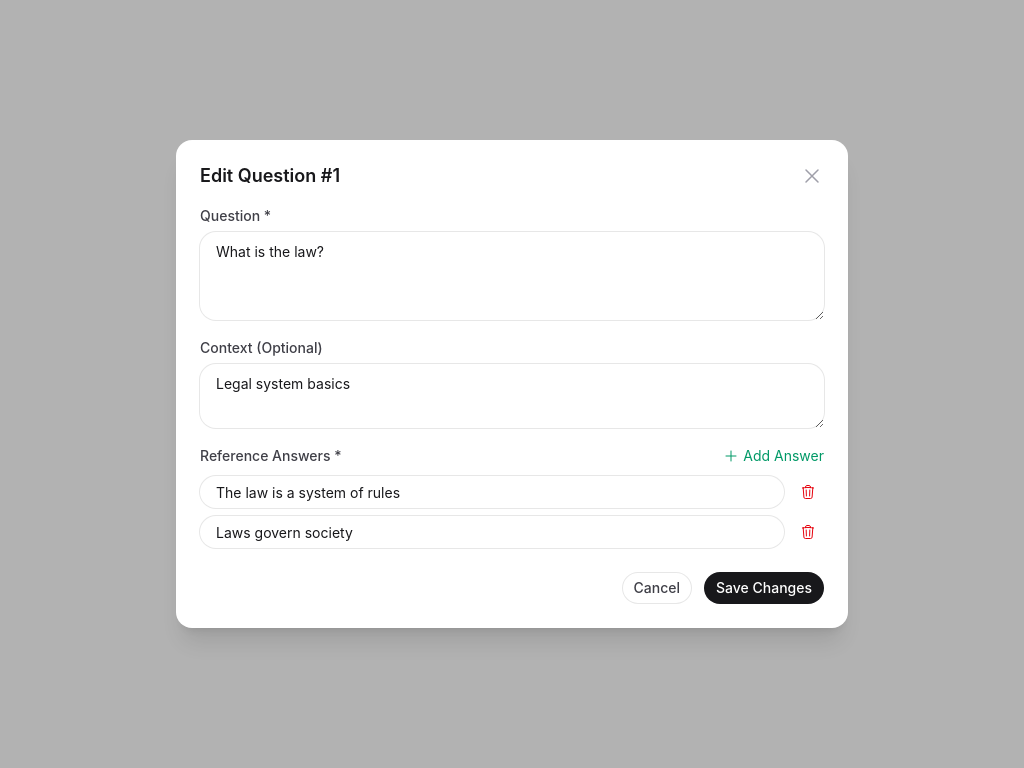
Test case: QuestionEditModal › Validation › shows error when all reference answers are empty
Clear the field with test id "reference-answer-": (492, 492) [200,476,784,508]
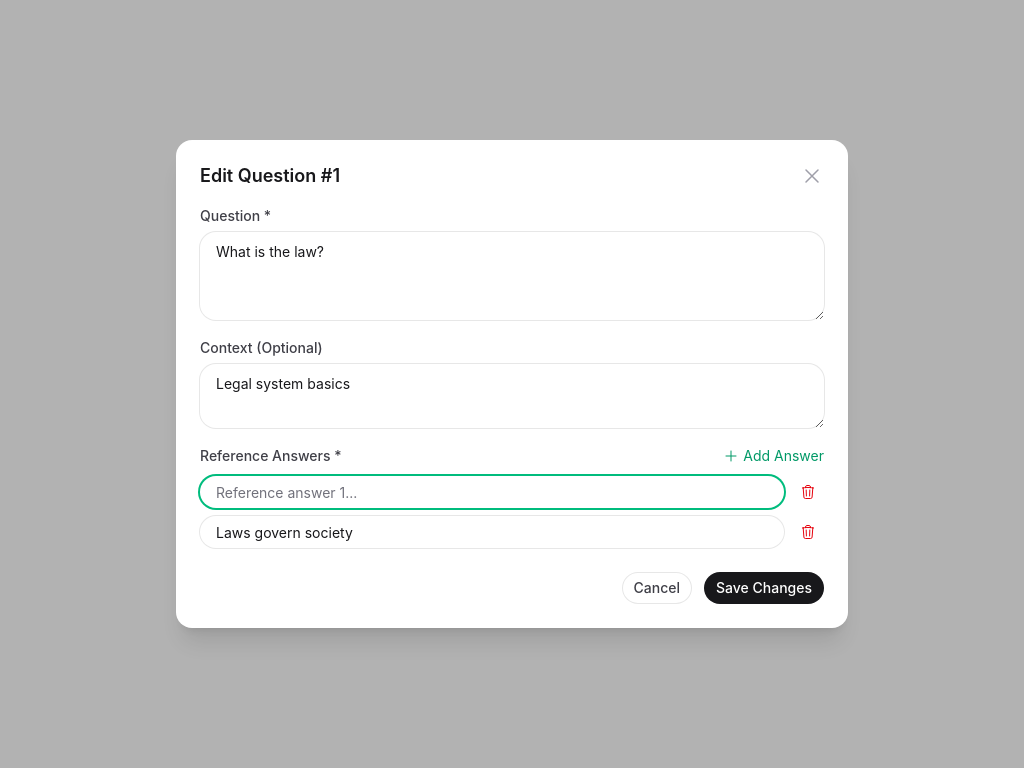
Clear the field with test id "reference-answer-": (492, 532) [200,516,784,548]
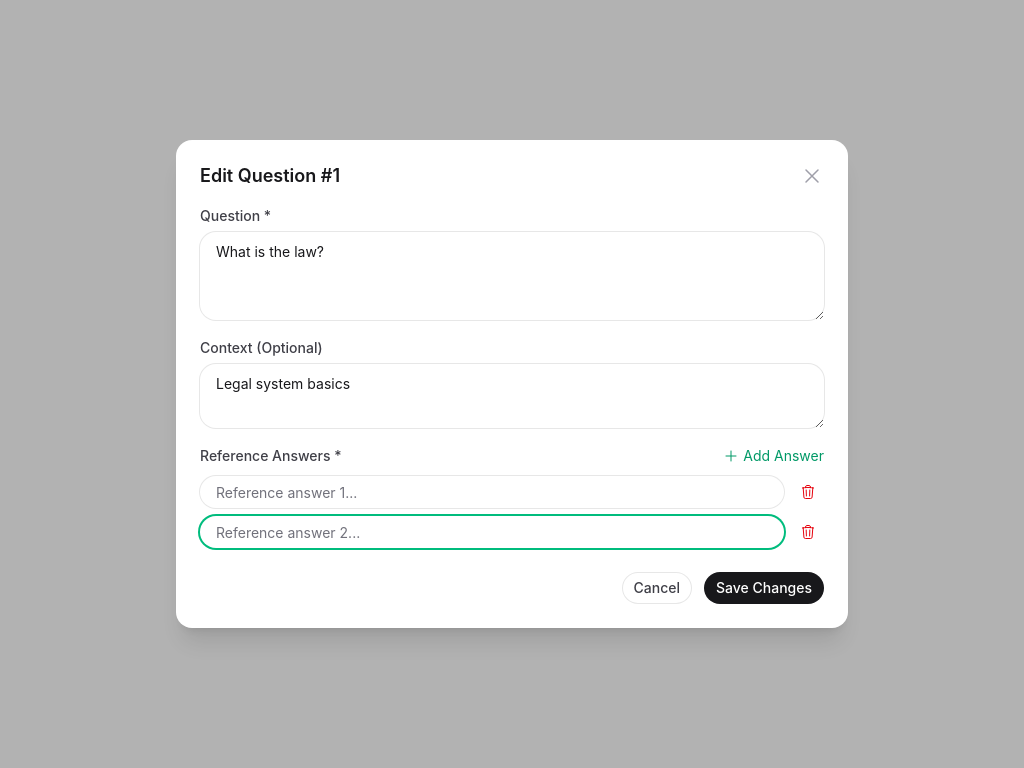
Click the button with test id "save-question-button": (764, 588) [704,572,824,604]
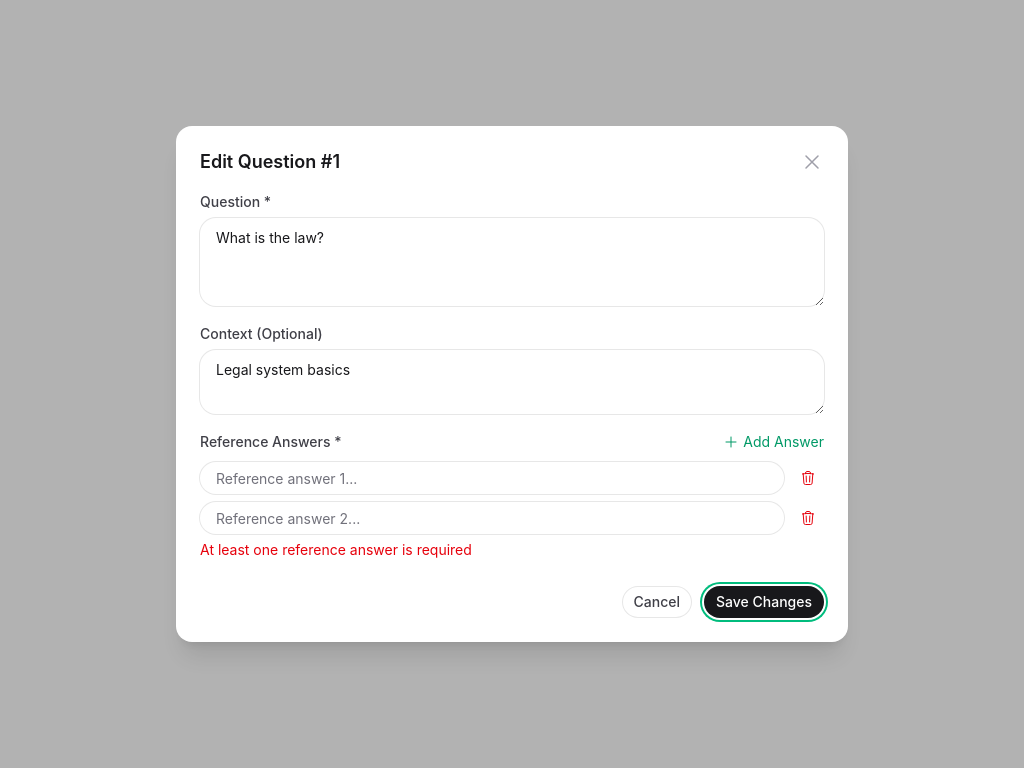
Expected: the text "At least one reference answer is required" is shown, [200,541,472,558]
